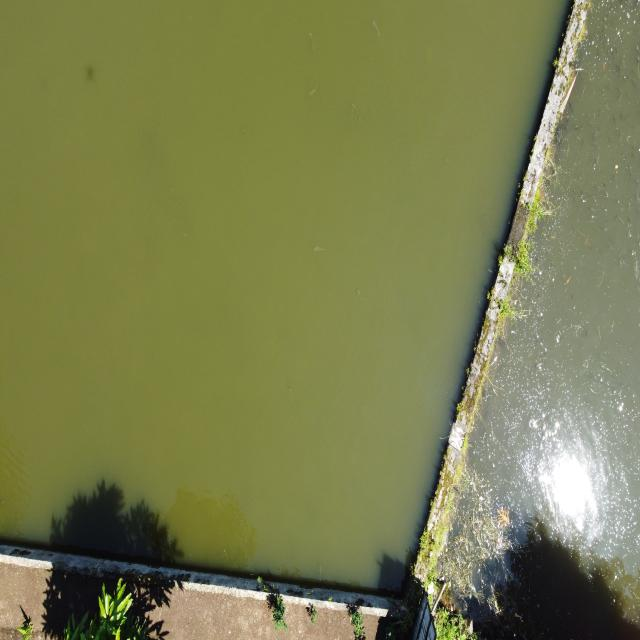Ponds: (1, 1, 596, 634), (404, 1, 640, 639)
